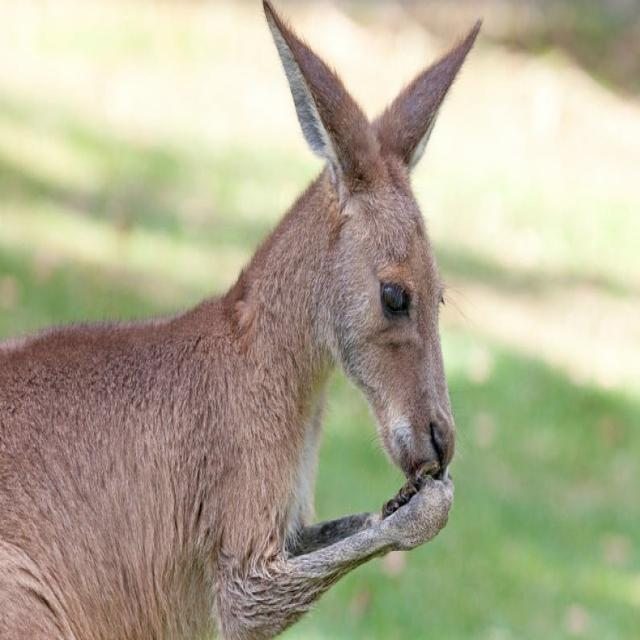kangaroo: (1, 0, 482, 639)
